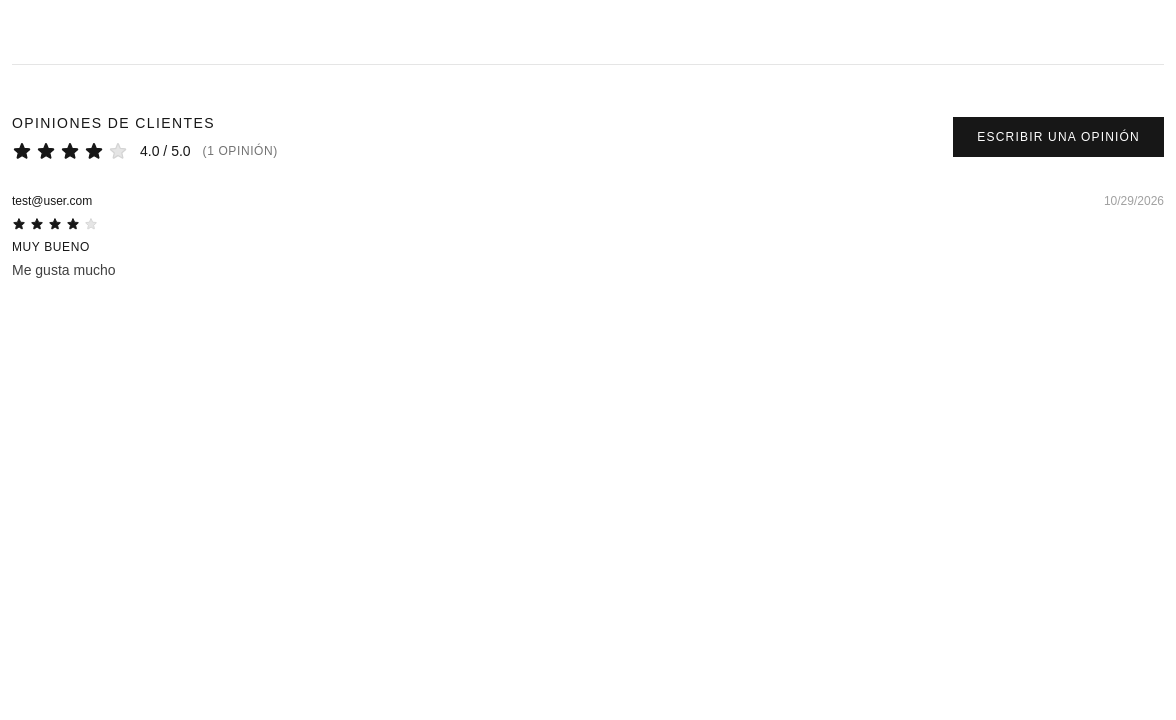
ProductReviewsSection › permite abrir el formulario de reseña
Click the button "Escribir una opinión" at (1059, 137), box [953, 117, 1164, 157]
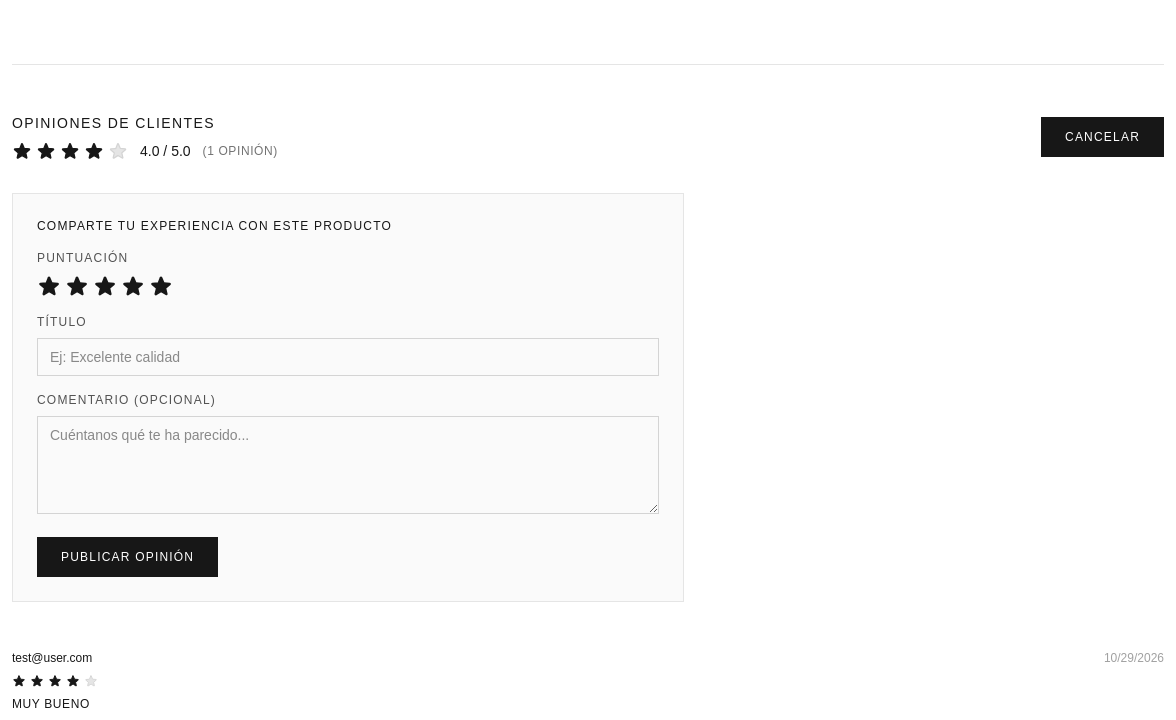
Now the field labelled "Título" is shown, box [37, 338, 659, 376]
Now the button "Publicar opinión" is shown, box [37, 537, 218, 577]
